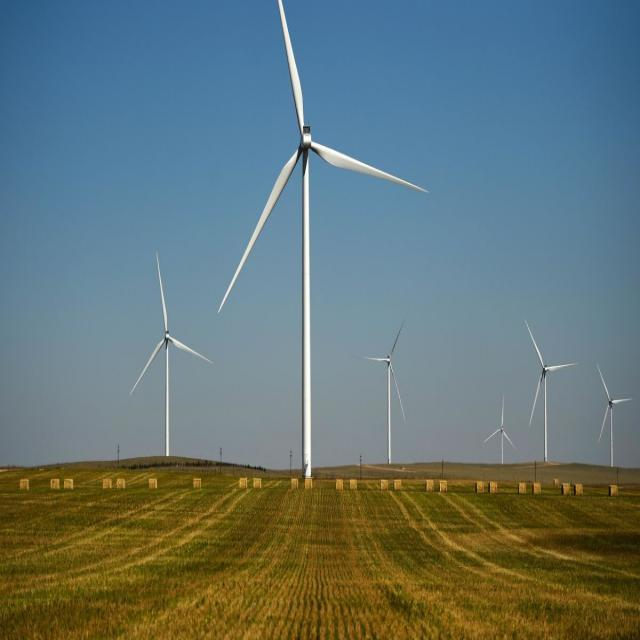solid-blade: (220, 149, 299, 312), (311, 142, 428, 192), (277, 0, 305, 133), (131, 339, 165, 392), (166, 336, 212, 363), (157, 256, 167, 330)
